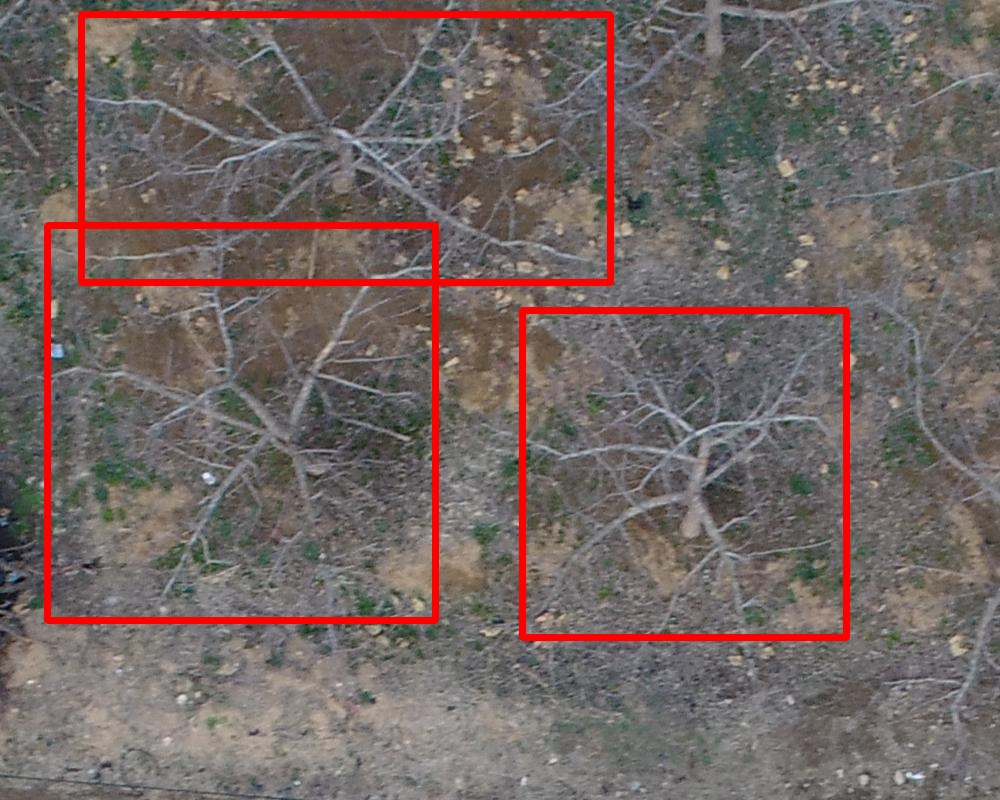apple: (47, 225, 435, 620), (81, 14, 610, 282), (522, 310, 846, 637)
